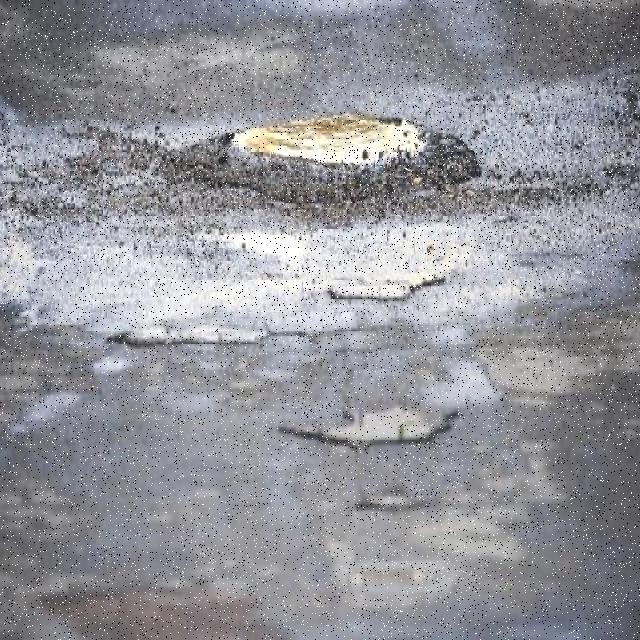Pothole: (162, 118, 482, 203), (280, 405, 456, 448), (109, 318, 273, 347), (330, 269, 446, 306), (354, 490, 430, 517)
